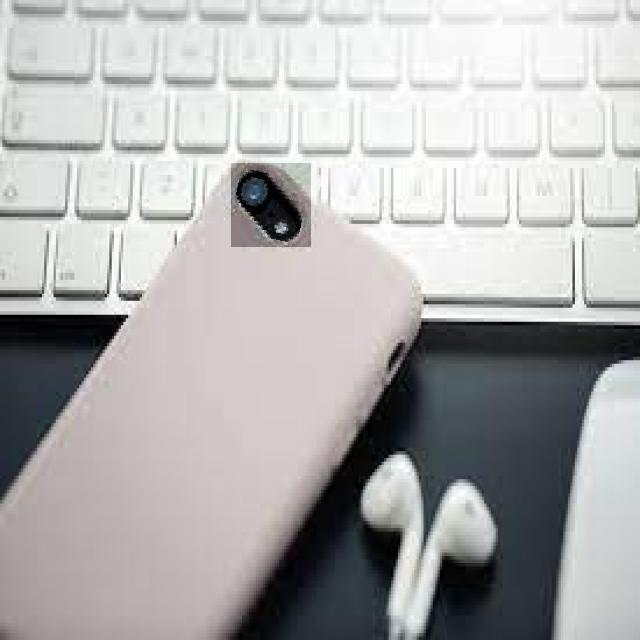phone: (0, 160, 429, 640)
